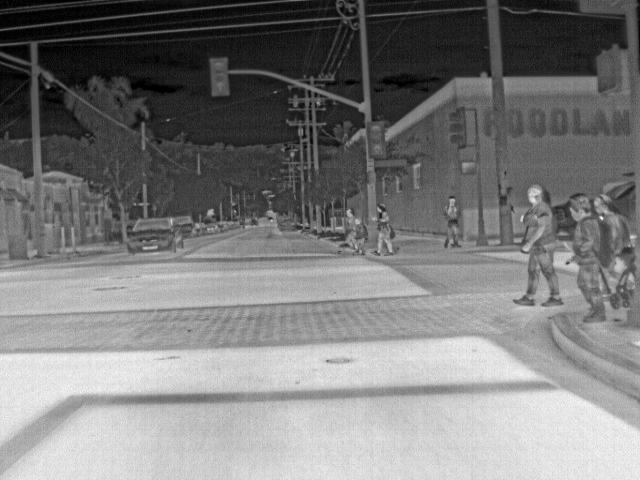car: (125, 216, 183, 256), (552, 200, 568, 248), (176, 215, 194, 238), (277, 218, 296, 232), (205, 222, 220, 234), (193, 222, 205, 236), (219, 220, 228, 231), (276, 217, 283, 227), (250, 217, 257, 227), (227, 220, 234, 230), (234, 220, 241, 228), (267, 215, 273, 222)
person: (512, 182, 564, 308), (566, 193, 604, 323), (590, 192, 635, 300), (374, 202, 394, 258), (443, 194, 462, 249), (344, 206, 357, 250), (353, 218, 367, 258)
